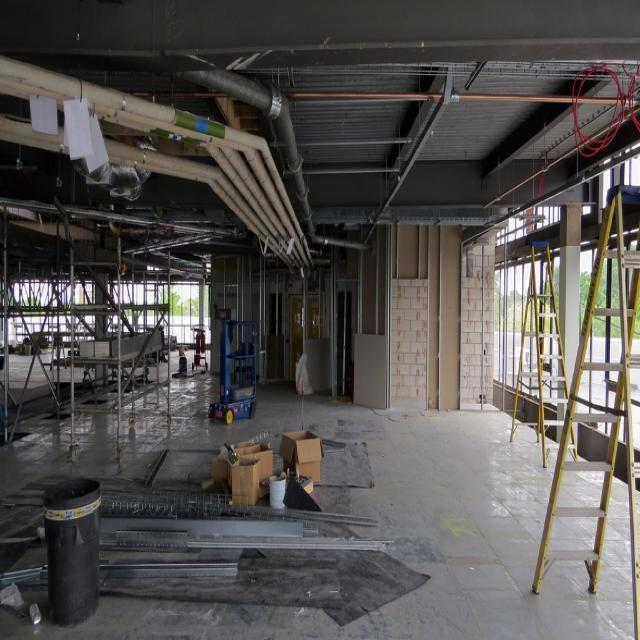box: (281, 431, 324, 497), (229, 450, 272, 508), (211, 455, 230, 491)
